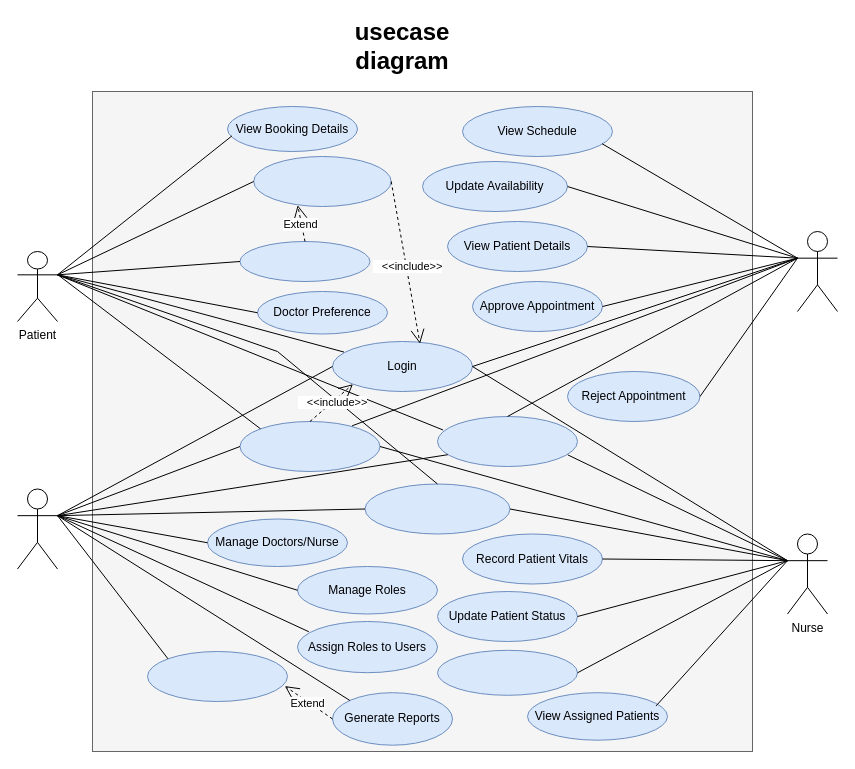
Image size: 855x769. Some labels were removed from this diagram. Each missing label, with the box of its shape:
Admin: (16, 488, 58, 569)
Book Appointment: (253, 156, 391, 206)
Cancel Appointment: (239, 240, 370, 282)
Doctor: (796, 230, 838, 312)
Manage System: (146, 650, 288, 702)
Register Patient: (436, 649, 578, 695)
Search Information: (436, 416, 578, 466)
View Appointments: (364, 483, 510, 534)
View Profile/Update: (239, 420, 380, 472)
